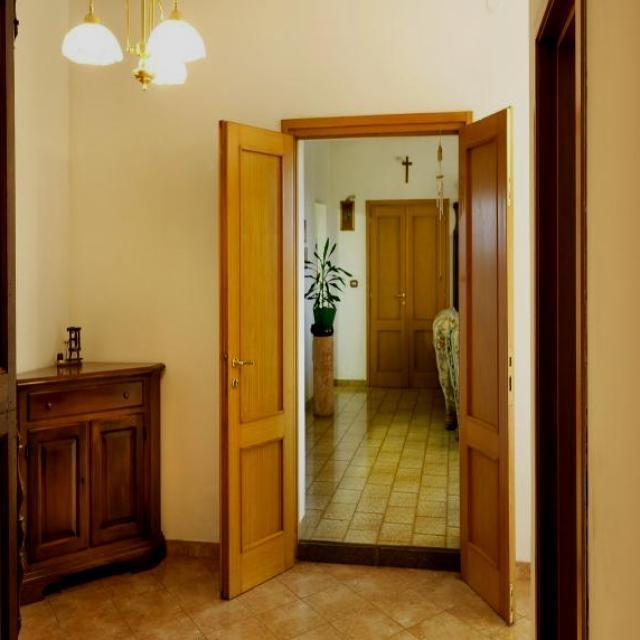door: (211, 115, 302, 602), (454, 98, 518, 624)
